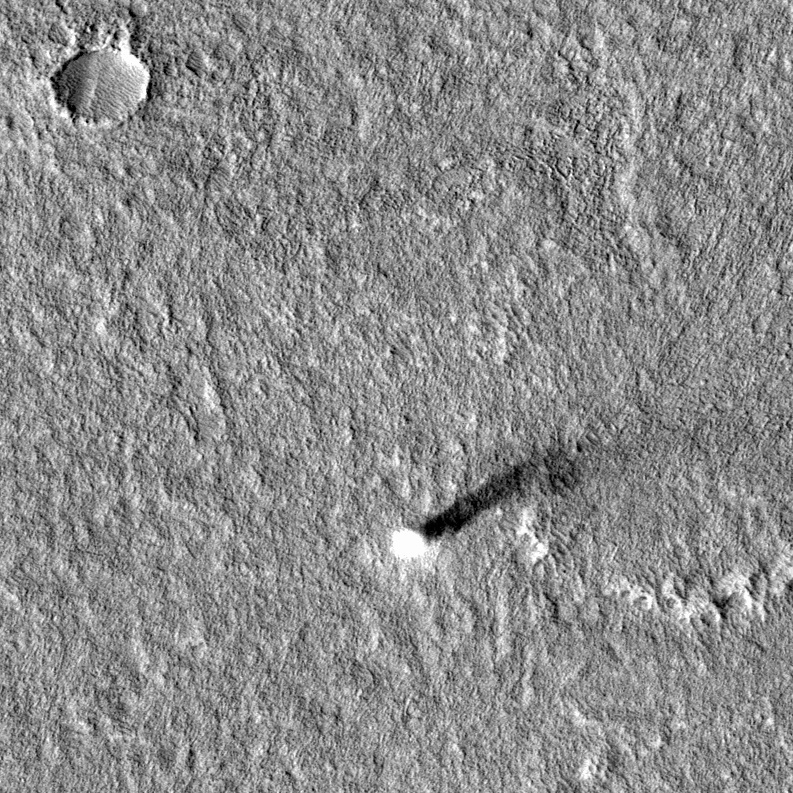dust_devil: (388, 449, 577, 564)
